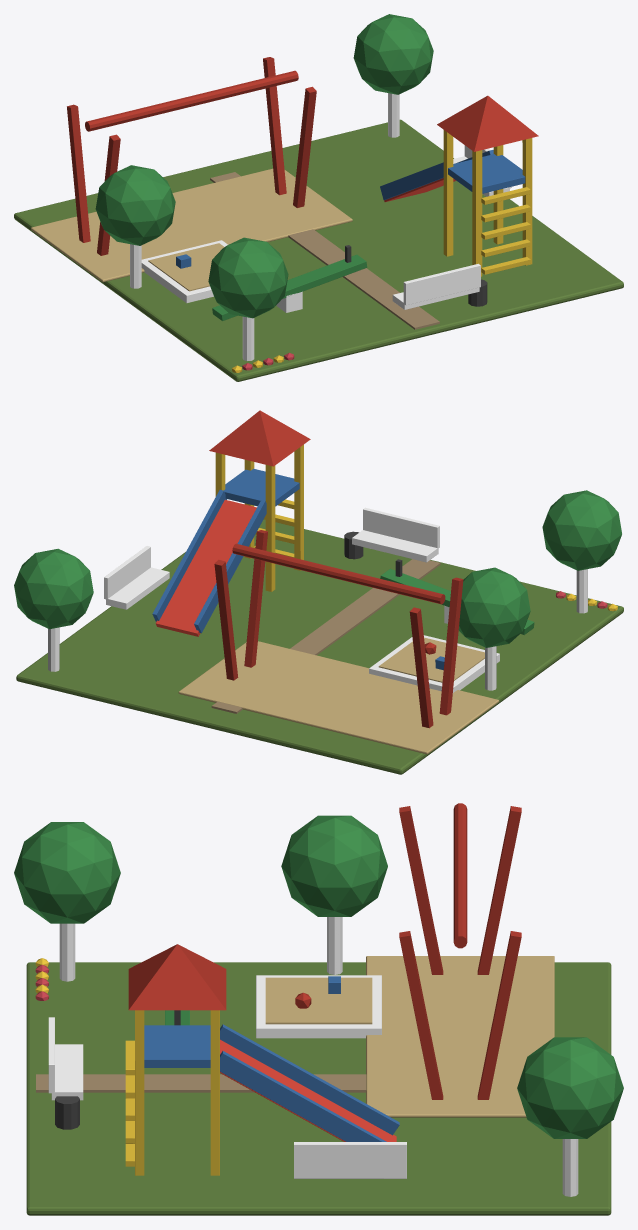
File: park.glb
3 renders of one model, top to bottom at view 1: azimuth 30°, elevation 25°; view 2: azimuth 150°, elevation 25°; view 3: azimuth 270°, elevation 25°, orthographic. The views are drawn at different scales.
Parts seen in each view (by area): view 1: Cone; view 2: Cone; view 3: Cone.
Boxes of the visible parts, <box> form: Cone: <box>14,14,623,381</box>; Cone: <box>14,410,623,774</box>; Cone: <box>14,803,623,1215</box>.
Size of the model in its own units: 1 by 0.4002 by 0.9732.
